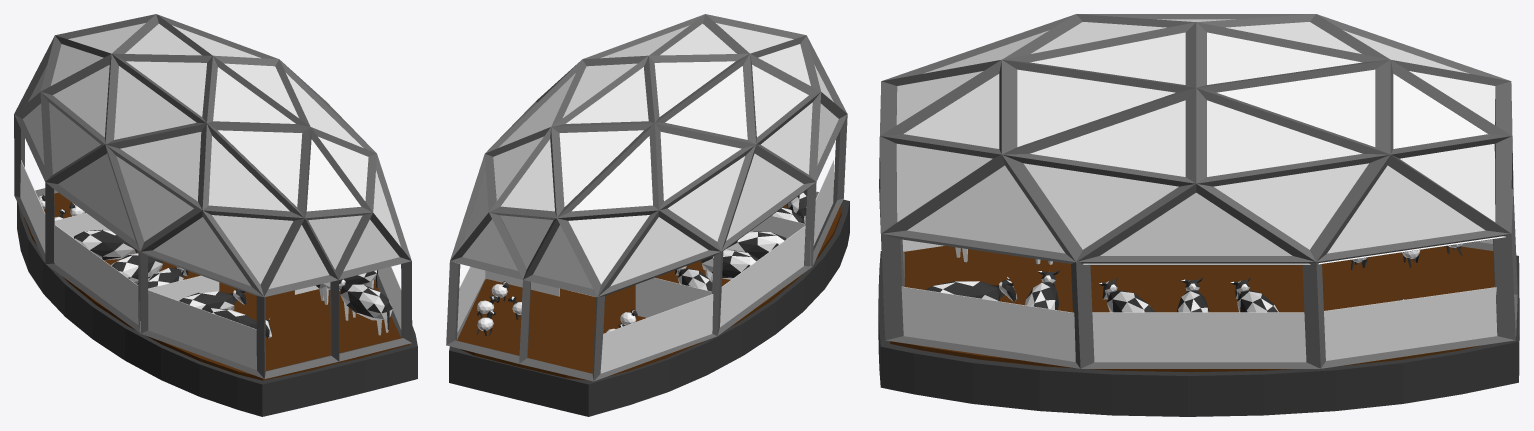
File: MarsBarn_1.fbx
The picture shows the model from 3 angles, left to right: view 1: azimuth 30°, elevation 25°; view 2: azimuth 150°, elevation 25°; view 3: azimuth 270°, elevation 25°; orthographic projection. The views are drawn at different scales.
Parts seen in each view (by area): view 1: Icosphere.066; view 2: Icosphere.066; view 3: Icosphere.066.
Boxes of the visible parts, x1,y1,x2,y2 form: Icosphere.066: (14, 14, 417, 416); Icosphere.066: (446, 14, 849, 416); Icosphere.066: (878, 14, 1519, 416).
Bounding box in the file's own units: 634 × 606 × 1112.
